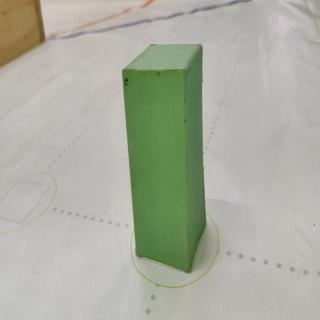greenbox: (121, 41, 207, 275)
